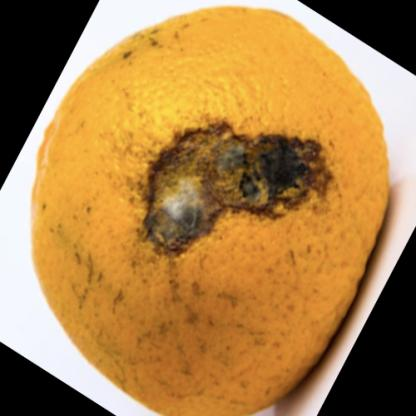rotten: (29, 8, 387, 416)
